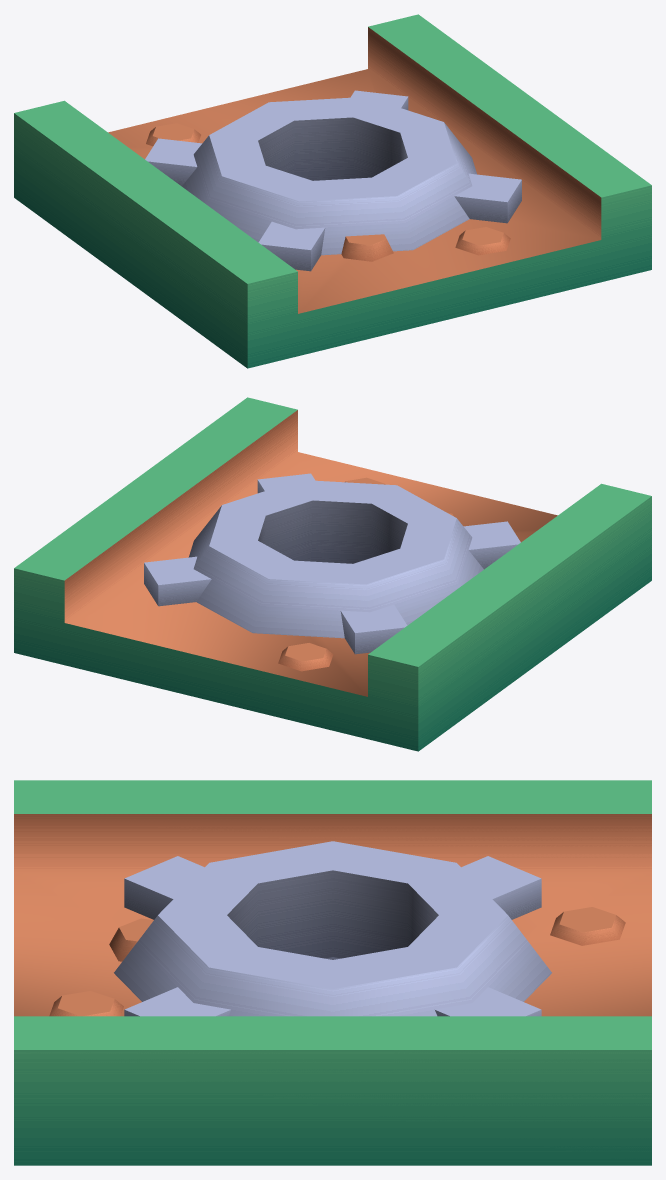
The model's file is tile-spawn-round.glb.
The picture shows the model from 3 angles, top to bottom: view 1: azimuth 30°, elevation 25°; view 2: azimuth 150°, elevation 25°; view 3: azimuth 270°, elevation 25°; orthographic projection. The views are drawn at different scales.
Parts seen in each view (by area): view 1: tile-spawn-round; view 2: tile-spawn-round; view 3: tile-spawn-round.
Part boxes in pixels (x1,y1,x2,y2): tile-spawn-round: [14, 14, 651, 368]; tile-spawn-round: [14, 397, 651, 751]; tile-spawn-round: [14, 780, 651, 1165].
Bounding box in the file's own units: 1 × 0.2 × 1.
Materials: 1 (1 with a texture image).
